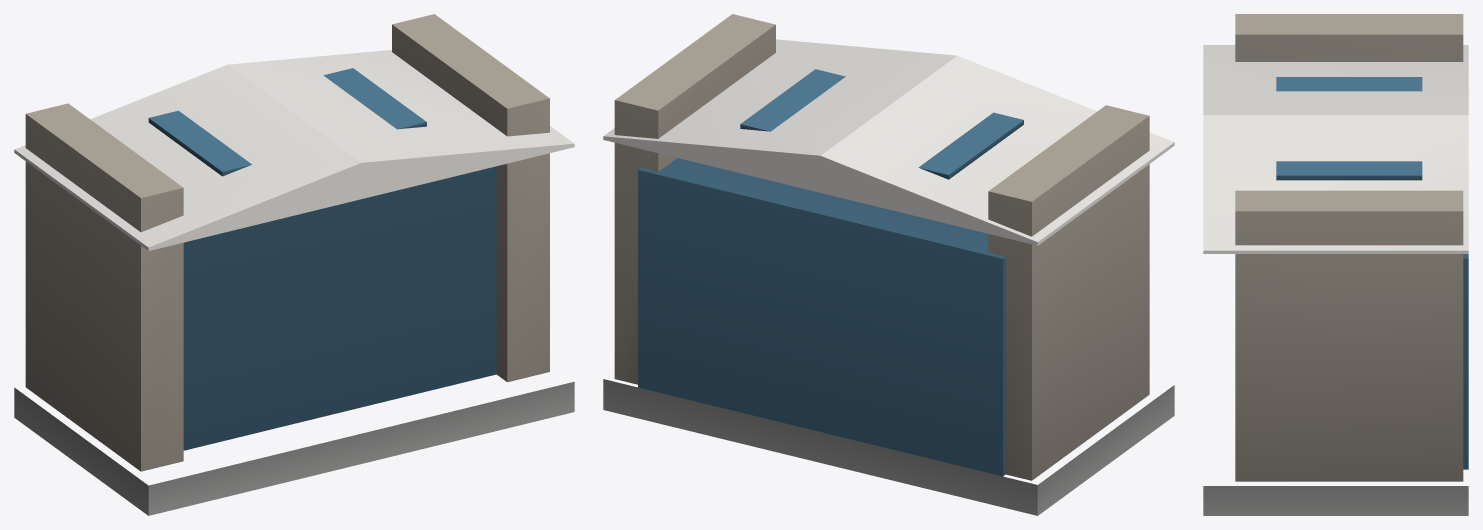
The model's file is expo-entrance.glb.
3 views of the same model, side by side, from view 1: azimuth 30°, elevation 25°; view 2: azimuth 150°, elevation 25°; view 3: azimuth 270°, elevation 25° (orthographic). The views are drawn at different scales.
Parts seen in each view (by area): view 1: expo-entrance; view 2: expo-entrance; view 3: expo-entrance.
Part boxes in pixels (bbox=[...]): expo-entrance: bbox=[14, 14, 574, 515]; expo-entrance: bbox=[603, 14, 1174, 515]; expo-entrance: bbox=[1203, 14, 1468, 515].
Bounding box in the file's own units: 44 × 30 × 24.
